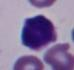L: (21, 15, 57, 50)
